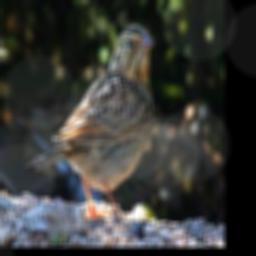Sparrow: (22, 15, 161, 224)
